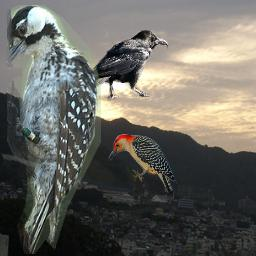Crow: (67, 29, 168, 102)
Woodpecker: (7, 5, 101, 254), (108, 134, 177, 199)
